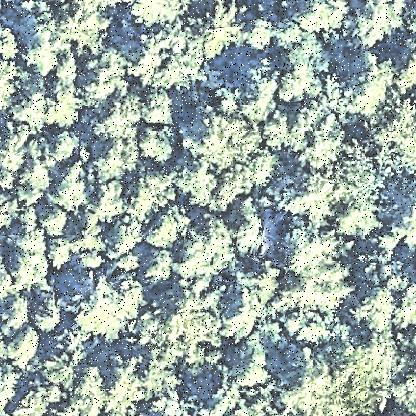tree-top: (279, 337, 391, 416), (272, 223, 348, 319), (269, 93, 353, 176), (141, 287, 221, 359), (65, 274, 149, 340), (183, 110, 261, 176), (128, 26, 205, 90), (219, 55, 289, 123), (176, 212, 238, 280), (372, 98, 416, 185), (7, 207, 48, 297), (327, 144, 385, 204), (272, 42, 326, 106), (95, 86, 151, 144), (338, 63, 396, 119), (279, 170, 339, 223), (20, 12, 62, 84), (195, 3, 248, 59), (185, 166, 249, 212), (53, 6, 115, 53), (83, 49, 131, 101), (352, 1, 406, 47), (146, 202, 196, 251), (216, 288, 259, 344), (108, 353, 146, 416), (331, 202, 383, 247), (288, 1, 349, 39), (12, 375, 68, 416), (352, 284, 399, 332), (50, 159, 94, 210), (137, 352, 180, 402), (230, 342, 274, 390), (102, 213, 146, 260), (7, 81, 47, 132), (93, 143, 141, 185), (129, 1, 191, 33), (1, 325, 43, 372), (45, 82, 87, 128), (232, 212, 268, 263), (67, 213, 107, 257), (1, 125, 41, 169), (17, 163, 56, 207), (30, 294, 67, 339), (140, 88, 180, 128), (140, 126, 178, 168), (145, 246, 179, 292), (43, 348, 77, 392), (2, 292, 36, 336), (41, 132, 84, 166), (70, 363, 110, 399), (391, 367, 416, 416), (245, 16, 279, 52), (393, 282, 416, 332), (40, 207, 72, 241), (1, 22, 23, 64), (49, 239, 71, 274)
